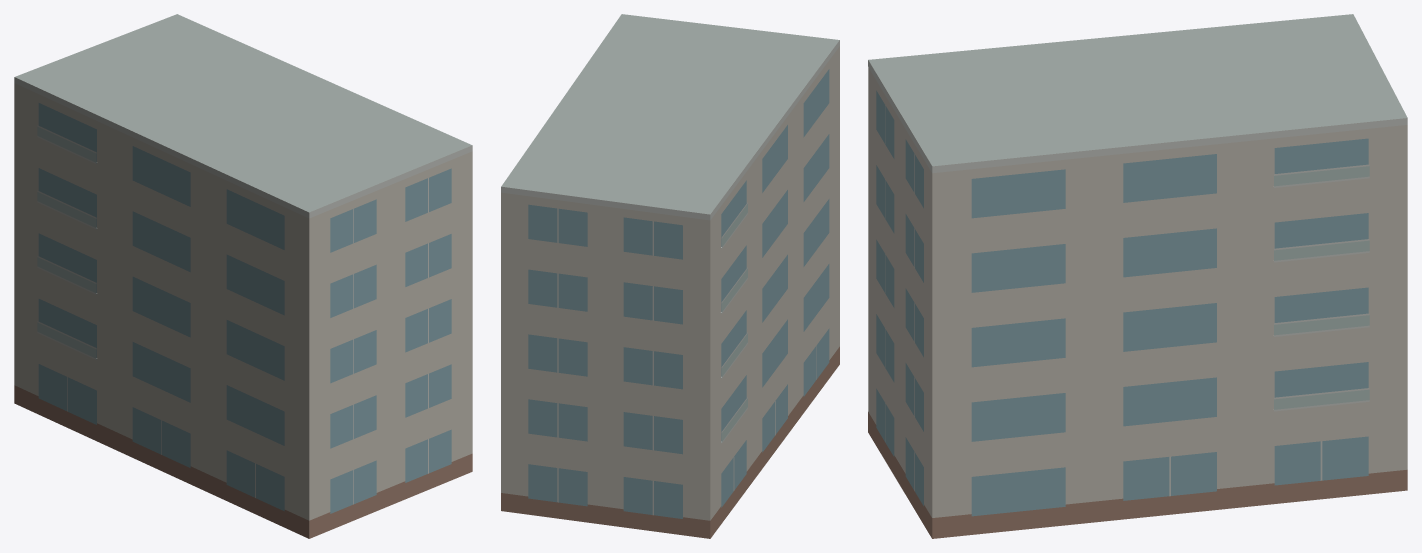
Rendered from survey-upis-33045913.glb.
3 renders of one model, left to right at view 1: azimuth 30°, elevation 25°; view 2: azimuth 150°, elevation 25°; view 3: azimuth 270°, elevation 25°, orthographic. The views are drawn at different scales.
Visible parts, largest first — view 1: survey-upis-33045913.tmp; view 2: survey-upis-33045913.tmp; view 3: survey-upis-33045913.tmp.
Part boxes in pixels (x1,y1,x2,y2): survey-upis-33045913.tmp: (14, 14, 472, 538); survey-upis-33045913.tmp: (501, 14, 839, 538); survey-upis-33045913.tmp: (868, 14, 1407, 538).
Size of the model in its own units: 11.64 by 13.25 by 17.41.
